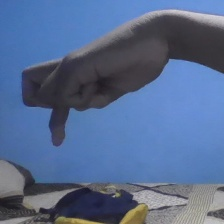P: (20, 5, 175, 149)
